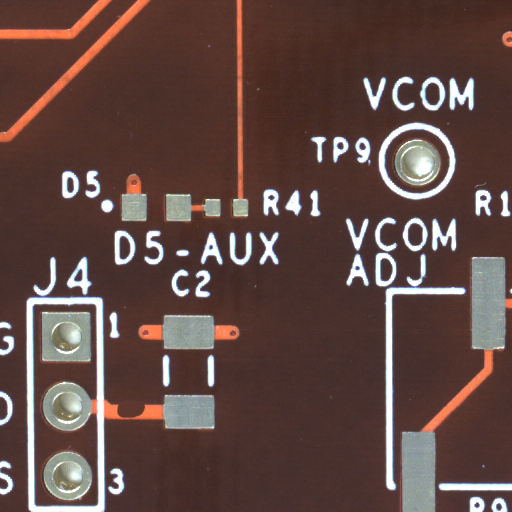Mouse_bite: (131, 409, 164, 435)
